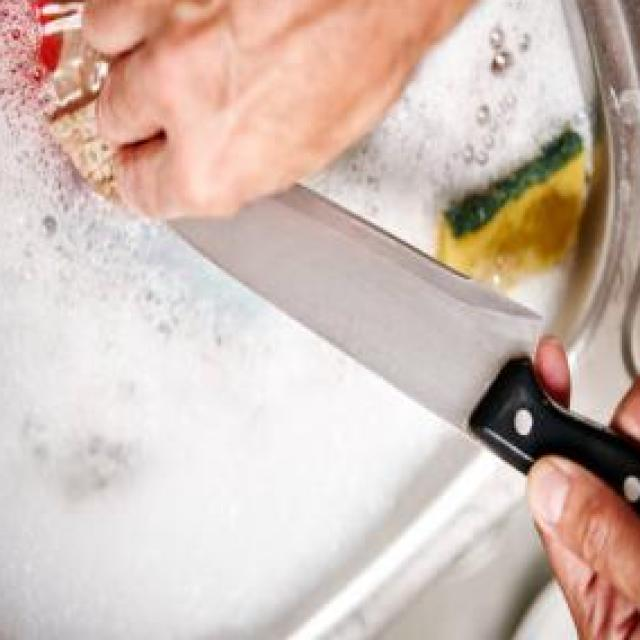knife: (128, 156, 640, 556)
